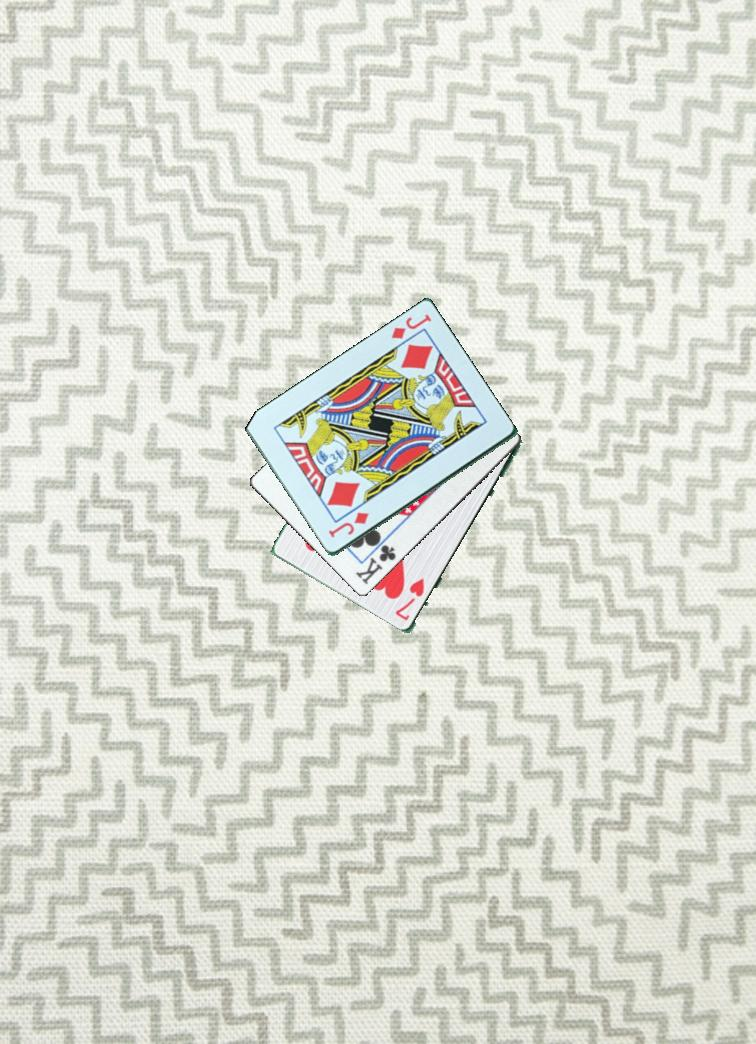7h: (392, 574, 427, 627)
jd: (325, 509, 372, 541), (387, 311, 434, 343)
kc: (352, 541, 399, 590)
